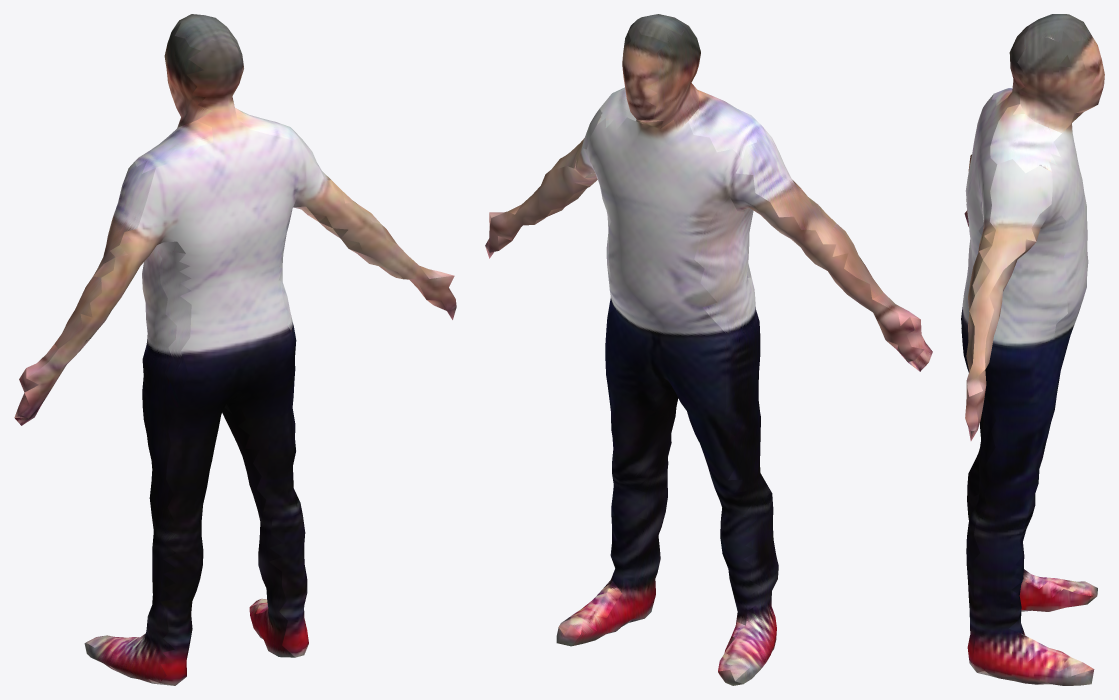
3 views of the same model, side by side, from view 1: azimuth 30°, elevation 25°; view 2: azimuth 150°, elevation 25°; view 3: azimuth 270°, elevation 25° (orthographic).
Visible parts, largest first — view 1: world; view 2: world; view 3: world.
Part boxes in pixels (x1,y1,x2,y2): world: (14,14,456,685); world: (485,14,932,685); world: (961,14,1104,685).
Bounding box in the file's own units: 0.7375 × 1.01 × 0.2083.
1 material, 1 textured.
